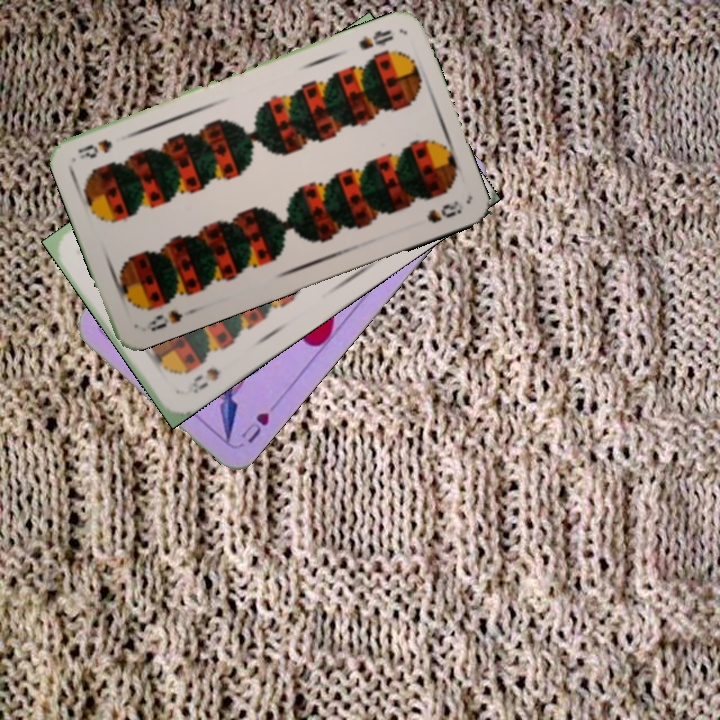HU: (237, 408, 272, 446)
S8: (136, 306, 195, 335), (180, 363, 222, 399), (354, 25, 396, 53)
